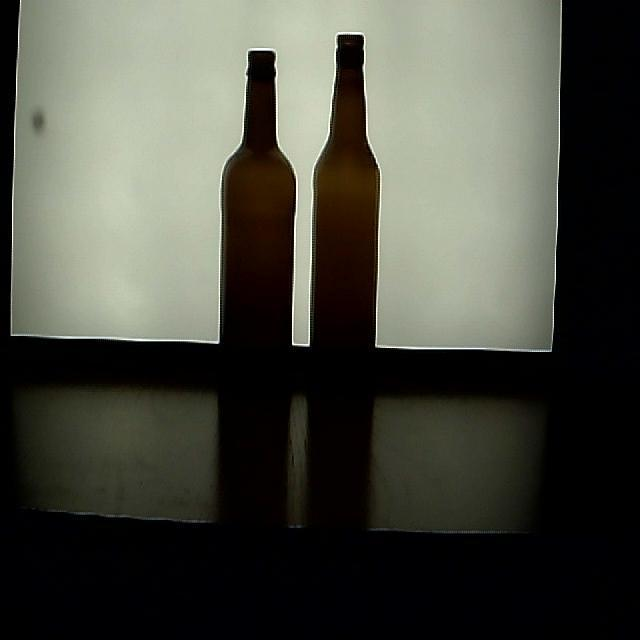Glass: (220, 49, 298, 433), (306, 32, 382, 424)
